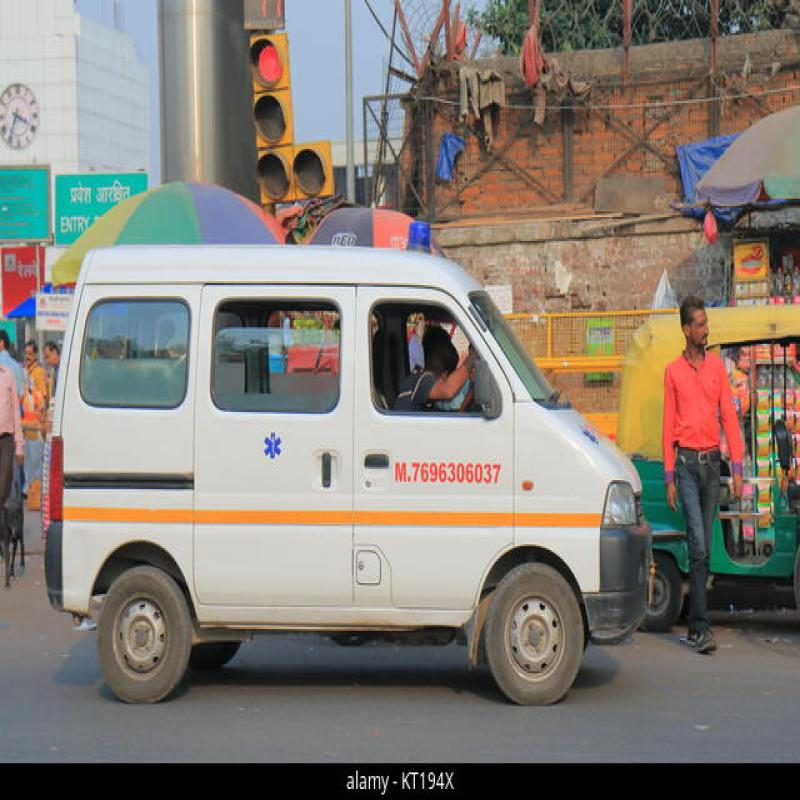AmbulanceSiren: (408, 204, 440, 266)
ambulance: (57, 226, 661, 705)
